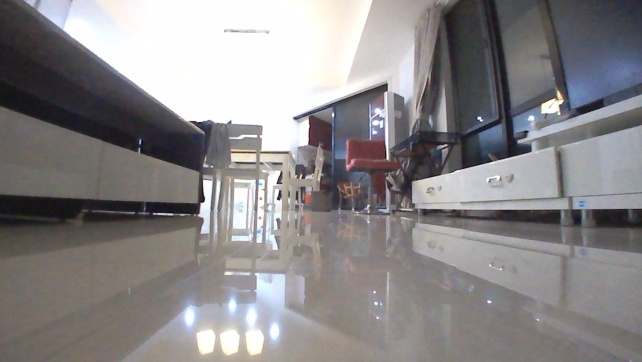TV_stand1: (408, 93, 641, 227)
dining_table: (200, 121, 326, 210)
tea_table1: (0, 0, 208, 224)
